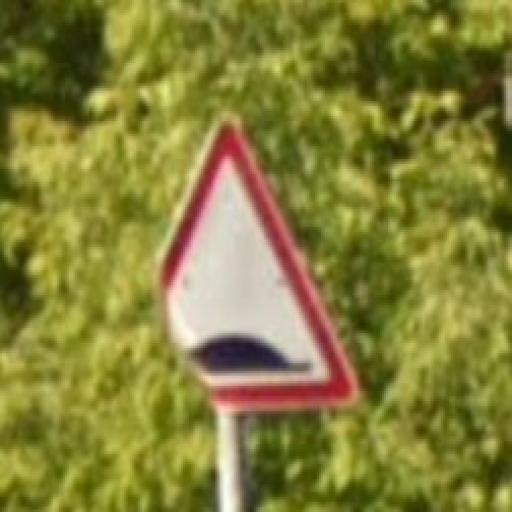traffic_sign: (160, 122, 361, 412)
